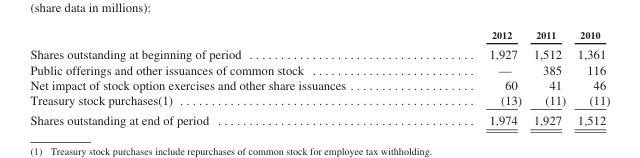table: (29, 28, 609, 126)
table column: (29, 28, 416, 126), (416, 28, 526, 126), (526, 28, 571, 126), (571, 28, 609, 126)
table column header: (29, 28, 609, 43)
table row: (29, 43, 609, 61), (29, 92, 609, 109), (29, 109, 609, 126), (29, 76, 609, 92), (29, 28, 609, 43), (29, 61, 609, 76)
